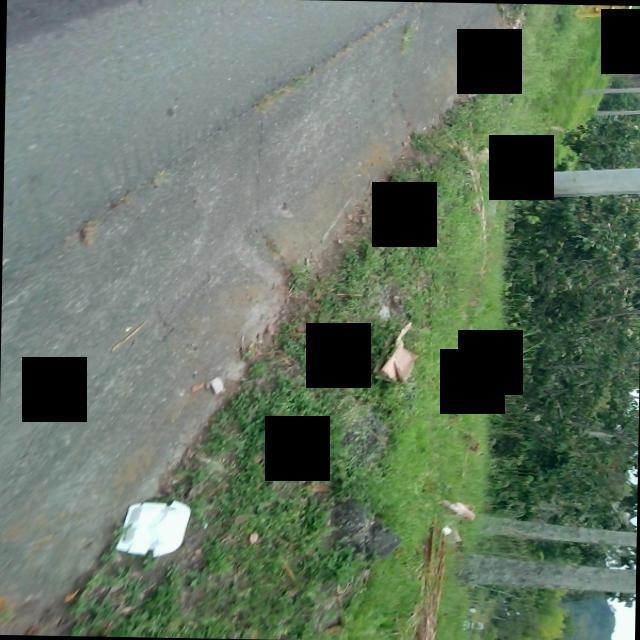DITCH: (0, 0, 524, 640), (0, 0, 516, 640)
